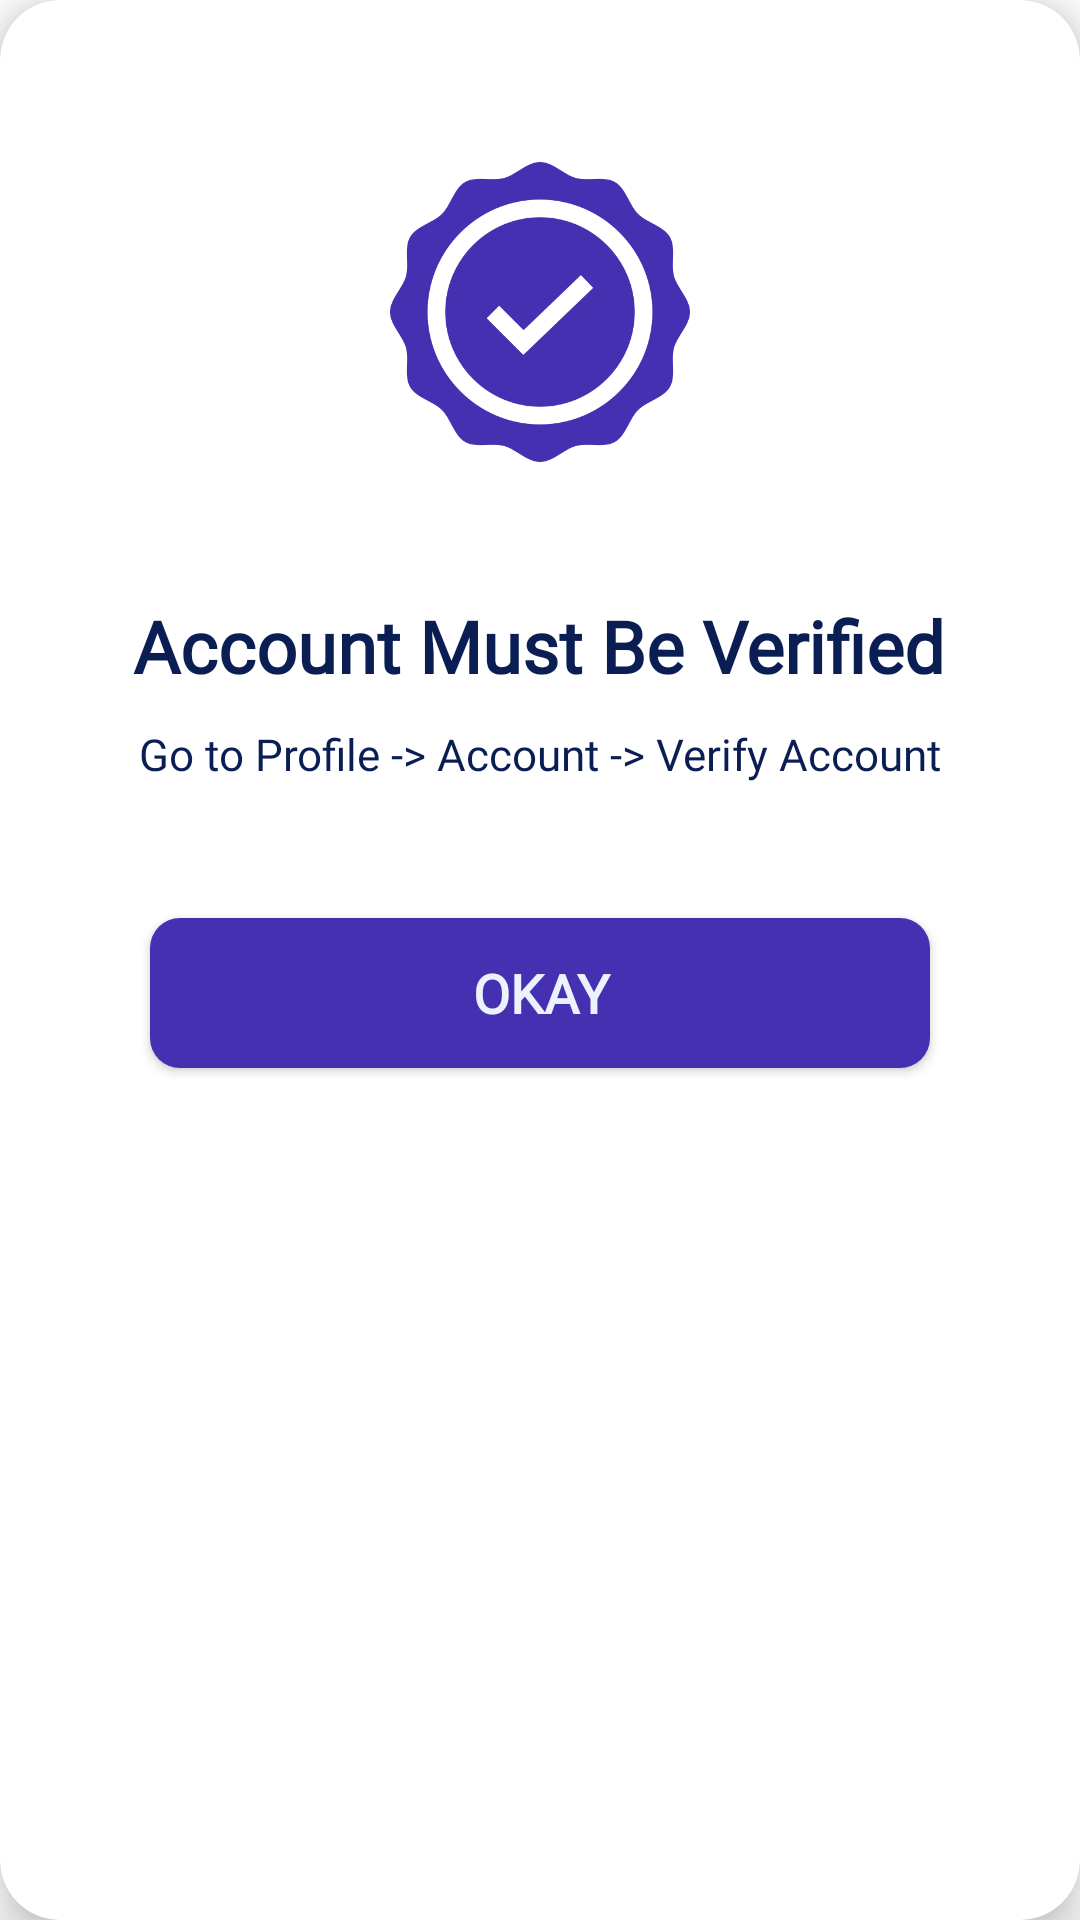

Point at icon controls on the screen. Image size 1080px x 1920px, points as [x,y].
verification: [540,312]
